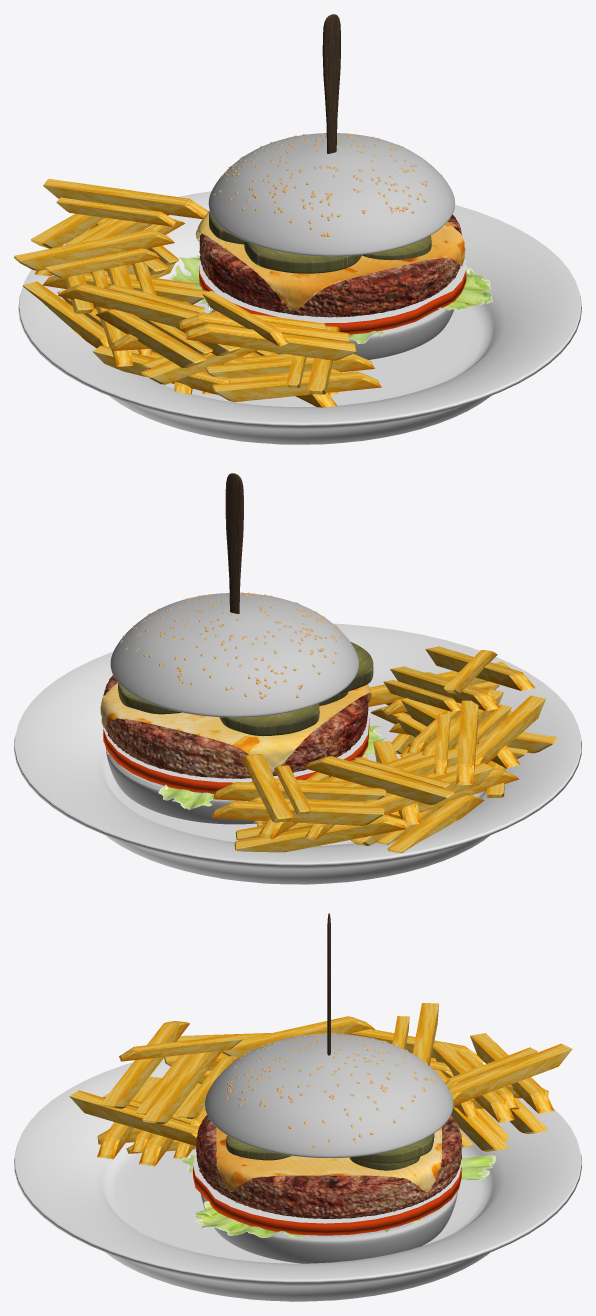
The model's file is burger.fbx.
The picture shows the model from 3 angles, top to bottom: view 1: azimuth 30°, elevation 25°; view 2: azimuth 150°, elevation 25°; view 3: azimuth 270°, elevation 25°; orthographic projection.
Parts seen in each view (by area): view 1: Cylinder.013; view 2: Cylinder.013; view 3: Cylinder.013.
Part boxes in pixels (x1,y1,x2,y2): Cylinder.013: (14,14,581,444); Cylinder.013: (14,473,581,884); Cylinder.013: (14,913,581,1301).
Size of the model in its own units: 434 by 271 by 434.
